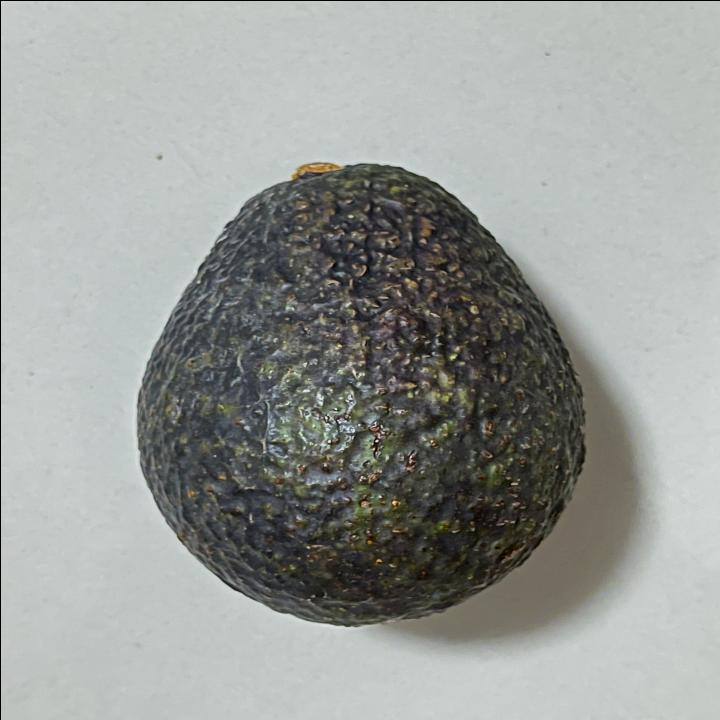Level1: (118, 144, 598, 634)
